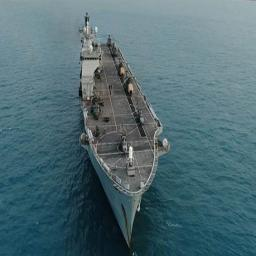Portanaves: (80, 9, 172, 250)
